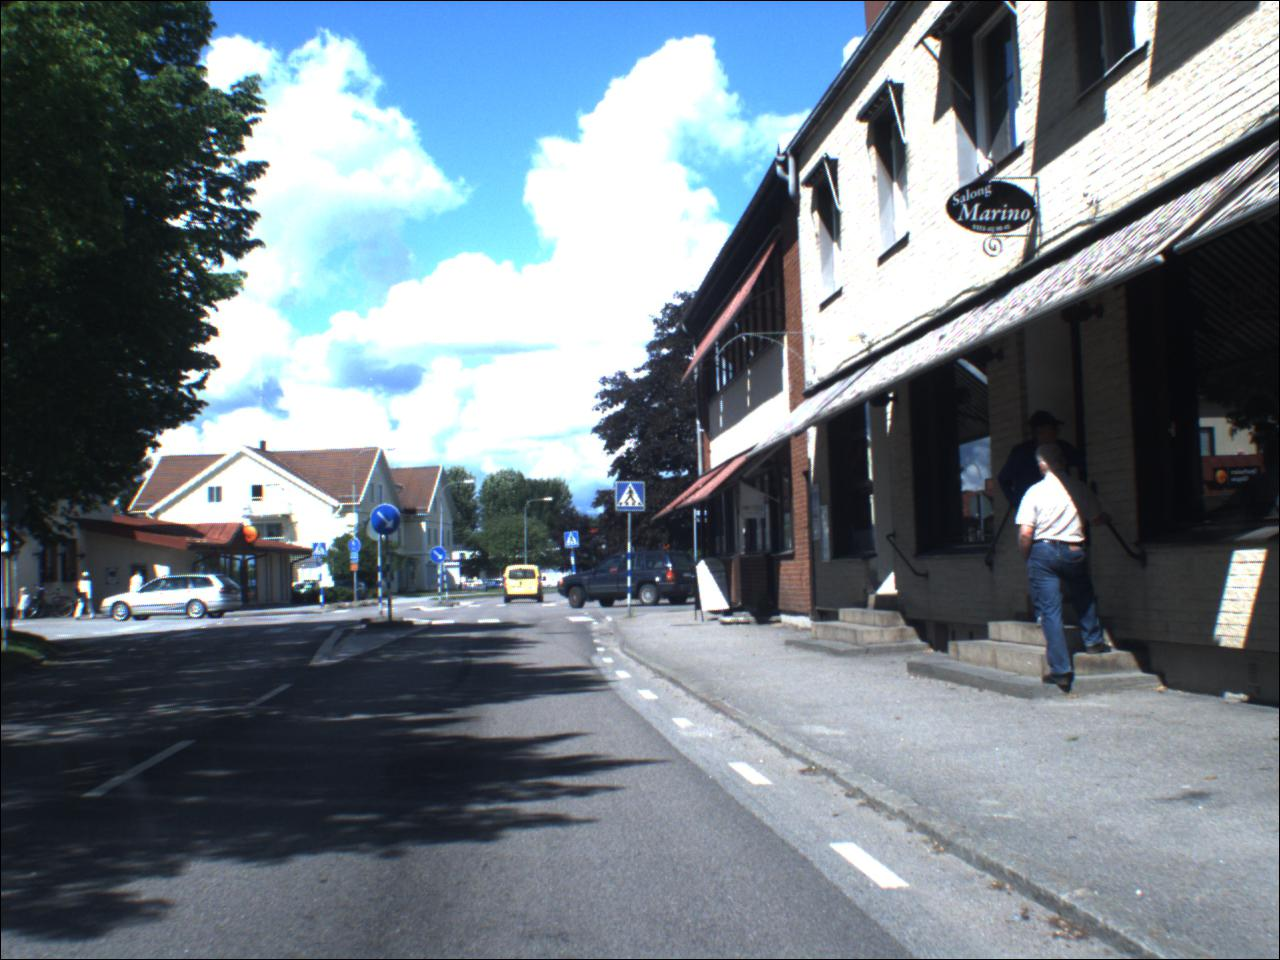PASS_RIGHT_SIDE: (372, 506, 405, 539), (433, 547, 447, 567)
PEDESTRIAN_CROSSING: (617, 483, 648, 514), (565, 533, 582, 550), (314, 544, 329, 559)
